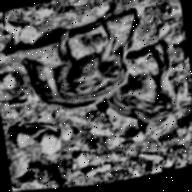boar: (9, 6, 149, 126), (94, 43, 186, 149)
